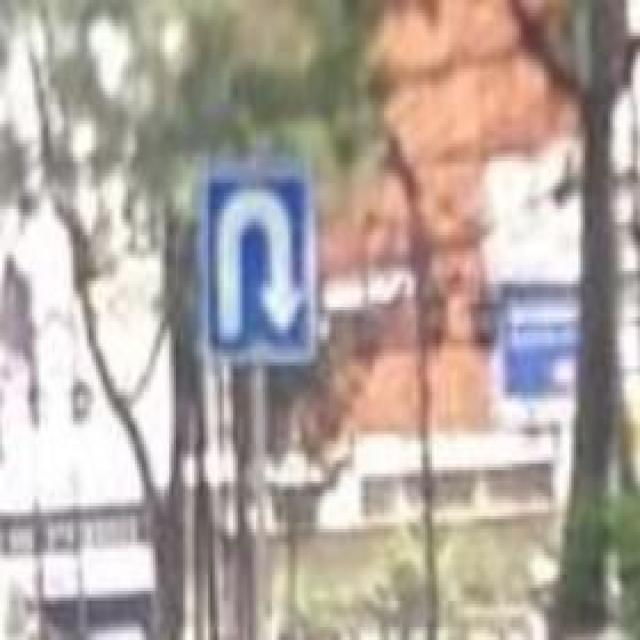traffic sign: (197, 164, 320, 373)
